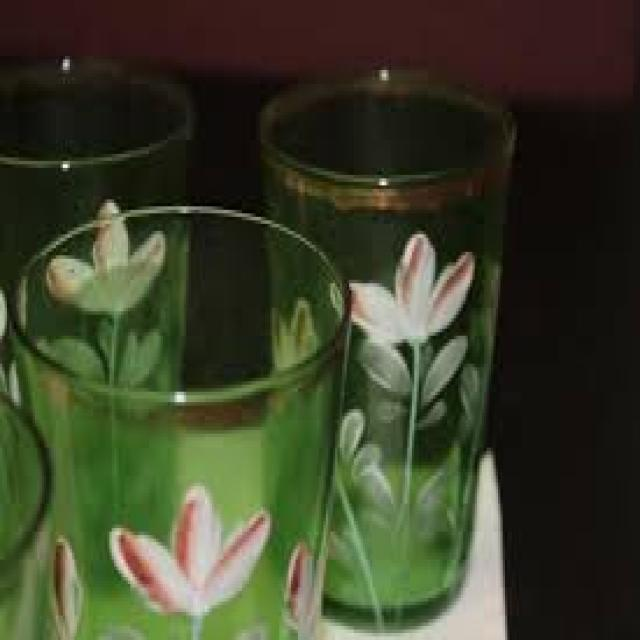glass: (7, 200, 347, 637), (254, 67, 514, 623), (0, 53, 189, 462), (0, 392, 51, 637)
